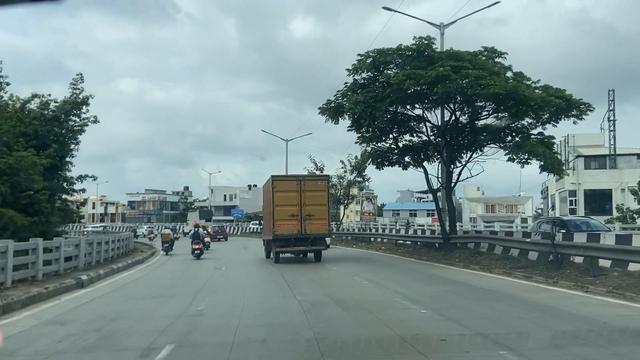HMV: (262, 174, 329, 260)
LMV: (189, 225, 211, 255), (161, 221, 177, 259), (211, 221, 233, 243)
